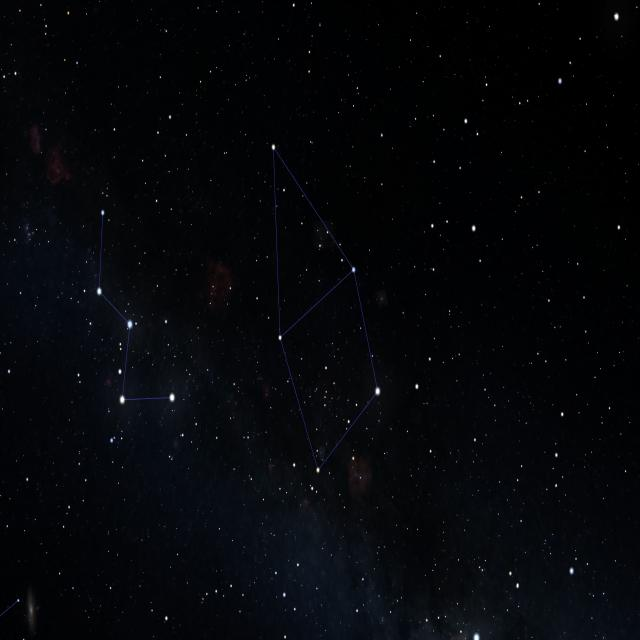Cepheus: (256, 127, 390, 483)
